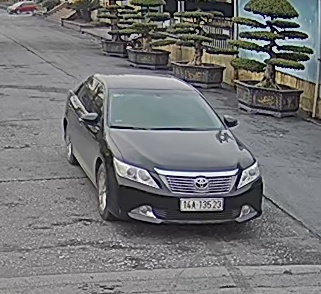vehicle plate: (178, 196, 224, 211)
